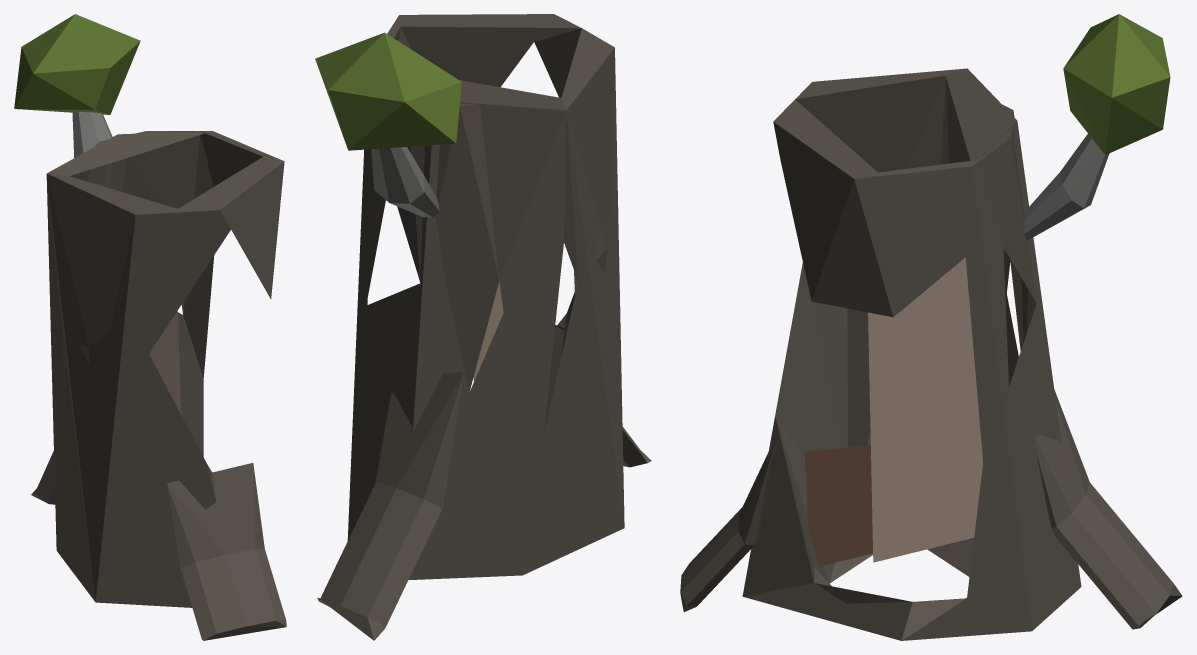
The picture shows the model from 3 angles, left to right: view 1: azimuth 30°, elevation 25°; view 2: azimuth 150°, elevation 25°; view 3: azimuth 270°, elevation 25°; orthographic projection. The views are drawn at different scales.
Parts seen in each view (by area): view 1: 円柱.005, ICO球, 円柱.003, 円柱.004; view 2: 円柱.005, ICO球, 円柱.004, 円柱.003; view 3: 円柱.005, 円柱.003, ICO球, 円柱.001, 円柱.004.
Part boxes in pixels (left/top/right/bottom): 円柱.005: left=31, top=131, right=286, bottom=640; ICO球: left=14, top=14, right=140, bottom=114; 円柱.003: left=149, top=311, right=181, bottom=414; 円柱.004: left=72, top=112, right=112, bottom=157; 円柱.005: left=317, top=14, right=651, bottom=640; ICO球: left=315, top=32, right=461, bottom=150; 円柱.004: left=371, top=147, right=439, bottom=217; 円柱.003: left=473, top=281, right=503, bottom=381; 円柱.005: left=680, top=68, right=1182, bottom=640; 円柱.003: left=868, top=257, right=982, bottom=562; ICO球: left=1063, top=14, right=1170, bottom=154; 円柱.001: left=804, top=445, right=872, bottom=566; 円柱.004: left=1003, top=134, right=1109, bottom=253.
Size of the model in its own units: 198 by 495 by 377.
